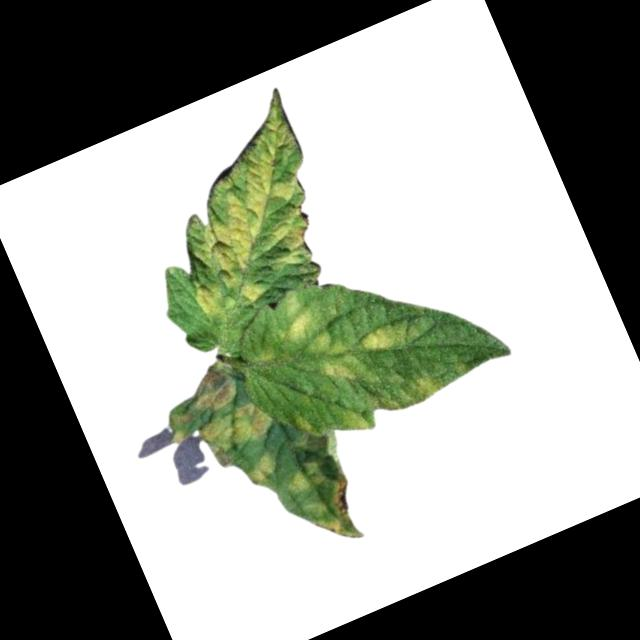Leaf_Mold: (134, 87, 351, 322), (194, 394, 283, 473), (296, 475, 371, 556), (180, 357, 241, 417), (268, 286, 318, 345), (311, 348, 365, 397), (332, 398, 374, 440), (300, 325, 346, 363), (282, 458, 326, 497), (359, 321, 401, 358), (242, 453, 280, 492), (410, 371, 438, 401)
